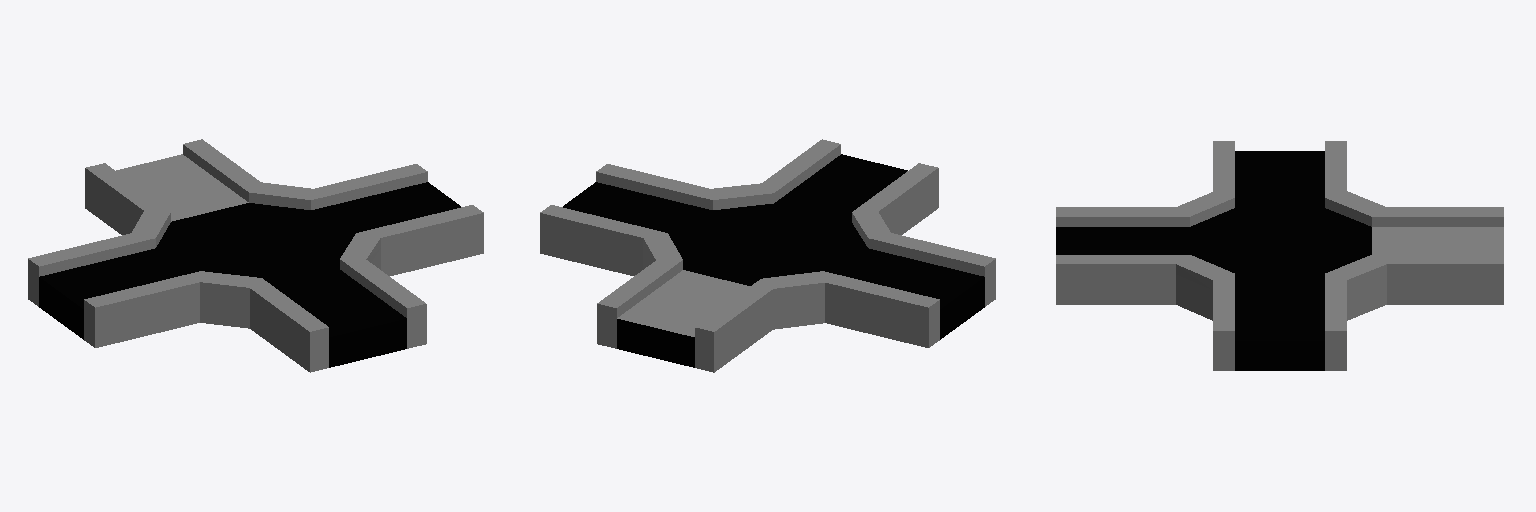
File: road_cross_4.obj
3 renders of one model, left to right at view 1: azimuth 30°, elevation 25°; view 2: azimuth 150°, elevation 25°; view 3: azimuth 270°, elevation 25°, orthographic.
Parts seen in each view (by area): view 1: road_cross_4_Cube.007; view 2: road_cross_4_Cube.007; view 3: road_cross_4_Cube.007.
Part boxes in pixels (x1,y1,x2,y2): road_cross_4_Cube.007: (28, 139, 483, 372); road_cross_4_Cube.007: (540, 139, 995, 372); road_cross_4_Cube.007: (1056, 141, 1503, 370).
Bounding box in the file's own units: 0.02 × 0.002 × 0.02.